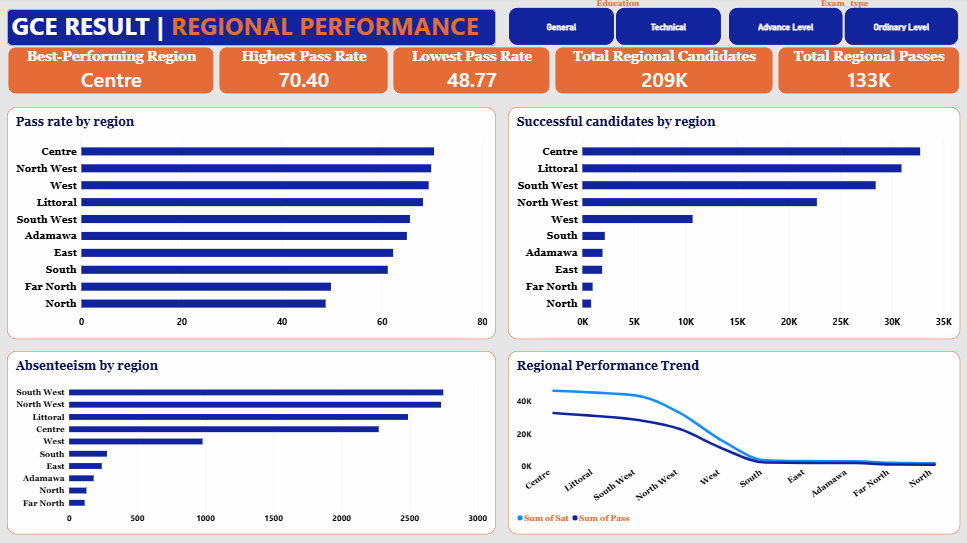

What the dashboard file says about the page in this screenshot:
{"tool":"powerbi","page":{"name":"Region","canvas":[1920,1080],"ordinal":1},"visuals":[{"type":"shape","box":[24,24,960,72],"z":1000},{"type":"textbox","box":[24,24,936,96],"z":2000},{"type":"barChart","title":"Pass rate by region","fields":{"Category":["Results_by_regions.Region"],"Y":["Results_by_regions.Regional Pass Rate"]},"box":[24,216,960,456],"z":3000},{"type":"cardVisual","fields":{"Data":["Results_by_regions.Best-Performing Region"]},"box":[24,96,408,96],"z":4000},{"type":"cardVisual","fields":{"Data":["Results_by_regions.Highest Pass Rate"]},"box":[438,96,336,96],"z":5000},{"type":"cardVisual","fields":{"Data":["Results_by_regions.Lowest Pass Rate"]},"box":[780,96,312,96],"z":6000},{"type":"cardVisual","fields":{"Data":["Results_by_regions.Total Regional Candidates"]},"box":[1098,96,432,96],"z":7000},{"type":"cardVisual","fields":{"Data":["Results_by_regions.Total Regional Passes"]},"box":[1536,96,360,96],"z":8000},{"type":"barChart","title":"Successful candidates by region","fields":{"Category":["Results_by_regions.Region"],"Y":["Sum(Results_by_regions.Pass)"]},"box":[1008,216,888,456],"z":9000},{"type":"barChart","title":"Absenteeism by region","fields":{"Category":["Results_by_regions.Region"],"Y":["Sum(Results_by_regions.Absent)"]},"box":[24,696,960,360],"z":10000},{"type":"lineChart","title":"Regional Performance Trend","fields":{"Category":["Results_by_regions.Region"],"Y":["Sum(Results_by_regions.Sat)","Sum(Results_by_regions.Pass)"]},"box":[1008,696,888,360],"z":11000},{"type":"advancedSlicerVisual","fields":{"Values":["Results_by_regions.Education"]},"box":[1008,0,432,96],"z":12000},{"type":"advancedSlicerVisual","fields":{"Values":["Results_by_regions.Exam_type"]},"box":[1440,0,458,96],"z":13000}]}

Visuals, with their boxes in screenshot pixels (x1, y1, x2, y2), scaled from the page's 1920x1080 canvas onto the 967x543 screenshot:
shape: detection(12, 12, 496, 48)
textbox: detection(12, 12, 484, 60)
"Pass rate by region" barChart: detection(12, 109, 496, 338)
cardVisual - Results_by_regions.Best-Performing Region: detection(12, 48, 218, 97)
cardVisual - Results_by_regions.Highest Pass Rate: detection(221, 48, 390, 97)
cardVisual - Results_by_regions.Lowest Pass Rate: detection(393, 48, 550, 97)
cardVisual - Results_by_regions.Total Regional Candidates: detection(553, 48, 771, 97)
cardVisual - Results_by_regions.Total Regional Passes: detection(774, 48, 955, 97)
"Successful candidates by region" barChart: detection(508, 109, 955, 338)
"Absenteeism by region" barChart: detection(12, 350, 496, 531)
"Regional Performance Trend" lineChart: detection(508, 350, 955, 531)
advancedSlicerVisual - Results_by_regions.Education: detection(508, 0, 725, 48)
advancedSlicerVisual - Results_by_regions.Exam_type: detection(725, 0, 956, 48)
